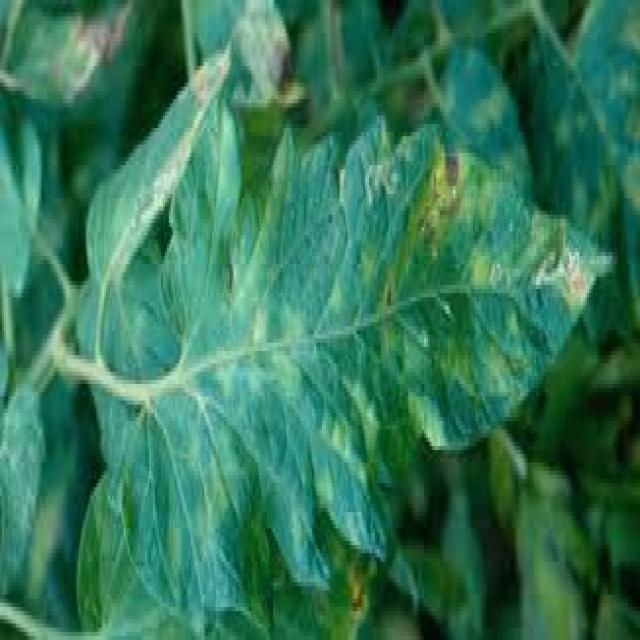Mosaic Virus: (118, 126, 567, 598)
